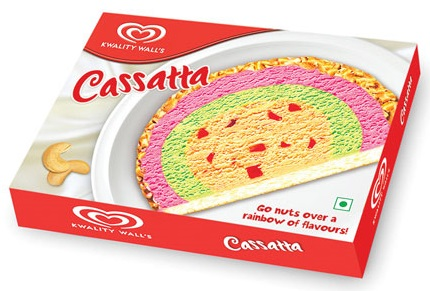Kwality_Walls: (97, 10, 169, 56), (70, 201, 151, 238)
